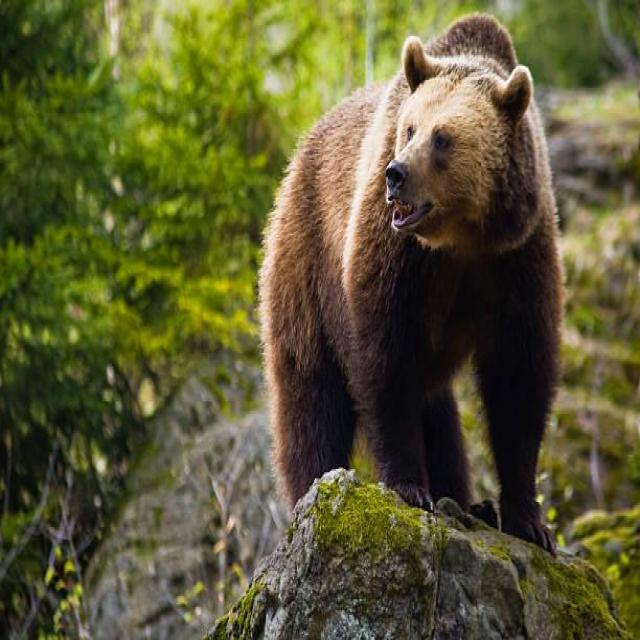Bear: (258, 14, 564, 554)
